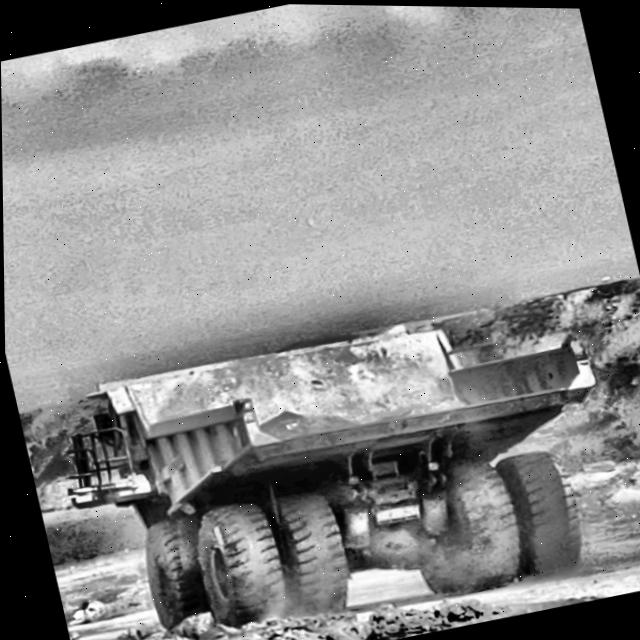dump_truck: (69, 314, 595, 633)
